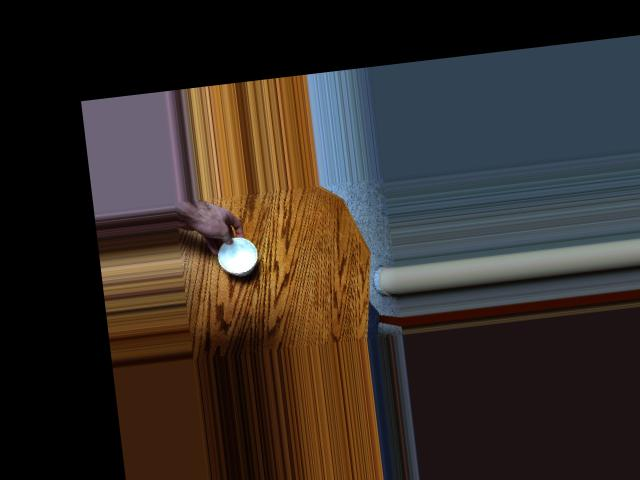cotage: (212, 227, 268, 279)
